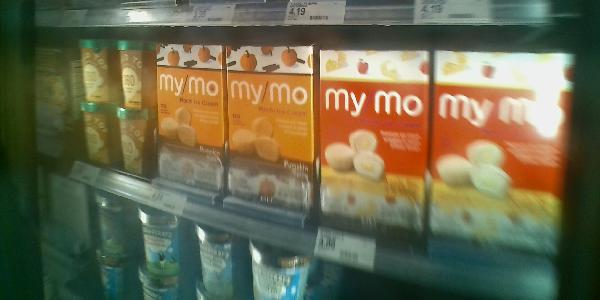icecream: (430, 46, 576, 249), (317, 47, 423, 231), (225, 45, 313, 219), (156, 41, 224, 202), (114, 103, 155, 176), (115, 37, 155, 107), (77, 103, 118, 164), (75, 36, 113, 100)
